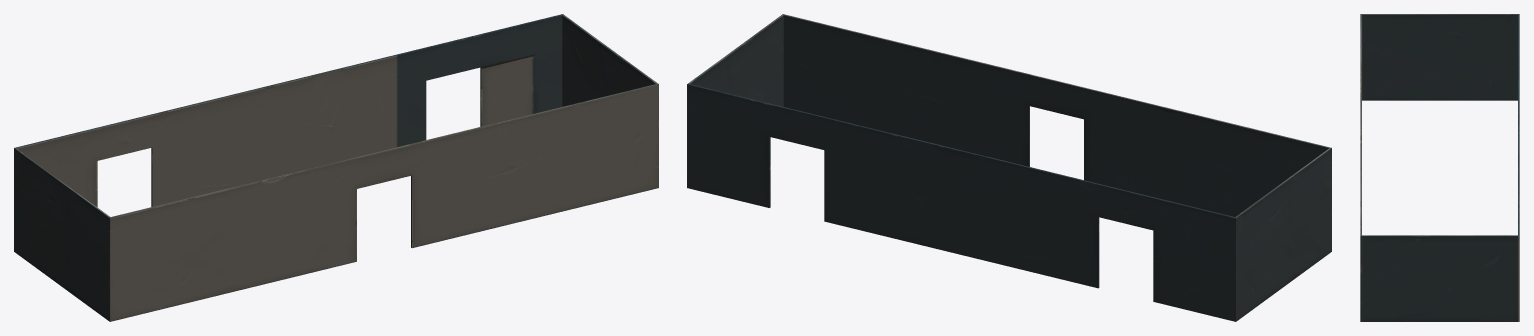
Rendered from Start_House_WallsUN.fbx.
The picture shows the model from 3 angles, left to right: view 1: azimuth 30°, elevation 25°; view 2: azimuth 150°, elevation 25°; view 3: azimuth 270°, elevation 25°; orthographic projection. The views are drawn at different scales.
Visible parts, largest first — view 1: House_wall_LOW; view 2: House_wall_LOW; view 3: House_wall_LOW.
Part boxes in pixels (x1,y1,x2,y2): House_wall_LOW: (14,14,658,321); House_wall_LOW: (687,14,1331,321); House_wall_LOW: (1360,14,1519,321).
Bounding box in the file's own units: 2000 × 361 × 606.
1 material, 1 textured.
